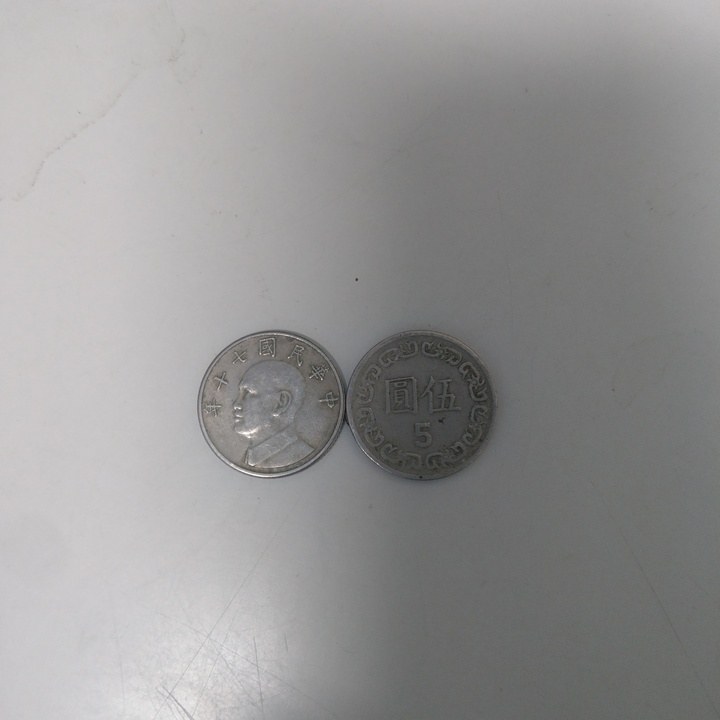5 dollar: (191, 331, 347, 481), (347, 328, 496, 483)
